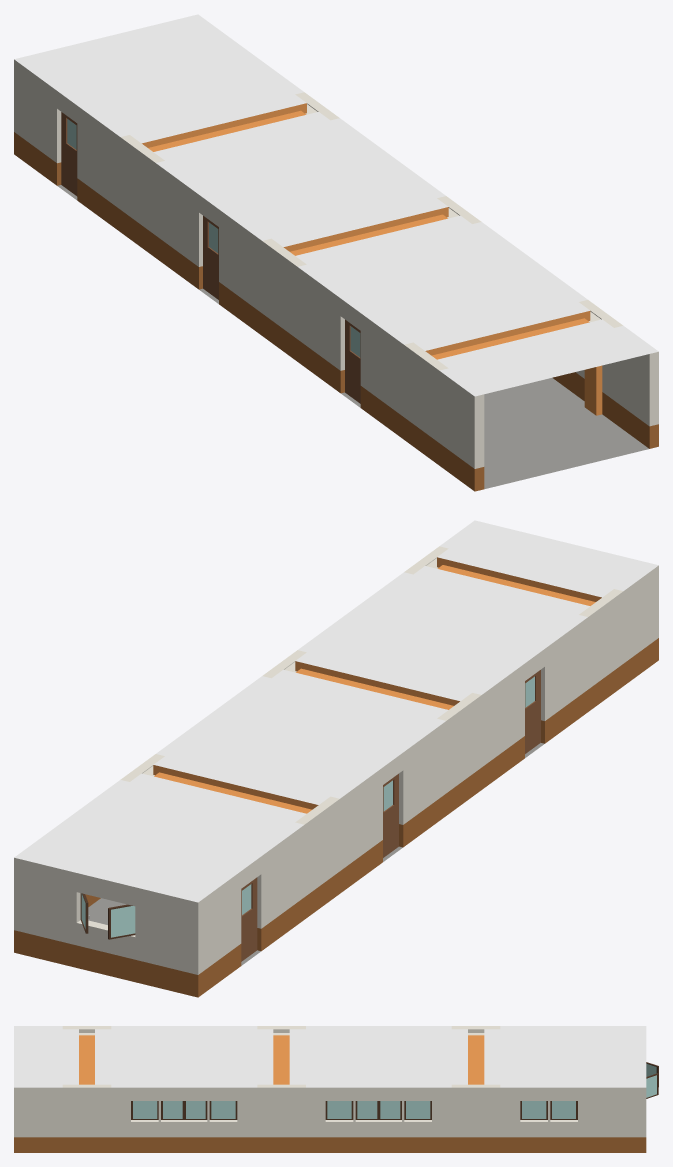
Rendered from Corredor.fbx.
3 views of the same model, one above another, from view 1: azimuth 30°, elevation 25°; view 2: azimuth 150°, elevation 25°; view 3: azimuth 270°, elevation 25° (orthographic). The views are drawn at different scales.
Visible parts, largest first — view 1: coner_right_lower, coner_right_lower.009, coner_right_column_lower, coner_right_higher.009, coner_right_higher.015, coner_right_higher.010, coner_right_higher.011, coner_right_higher.013, coner_left_higher_wall, coner_right_higher.014, coner_right_higher.016, coner_right_higher.012 (+63 smaller); view 2: coner_left_lower_wall, wall_coner_left, coner_left_higher_wall, coner_right_fower_wall, floor_wall, coner_right_higher_wall, ceiling_wall, coner_right_higher.012, coner_right_higher.011, coner_right_higher.013, coner_right_higher.009, coner_right_higher.010 (+61 smaller); view 3: coner_right_lower.002, coner_right_lower.005, coner_right_lower.003, coner_right_lower.004, coner_right_lower.001, coner_right_lower.006, coner_right_lower.007, coner_right_lower.008, coner_right_column_lower, coner_right_fower_wall, coner_right_column_lower.002, coner_right_lower (+64 smaller).
Boxes of the visible parts, x1,y1,x2,y2 form: coner_right_lower: (562,378,658,461); coner_right_lower.009: (439,421,535,491); coner_right_column_lower: (527,368,613,435); coner_right_higher.009: (439,355,535,406); coner_right_higher.015: (155,148,251,198); coner_right_higher.010: (368,304,464,354); coner_right_higher.011: (333,278,429,328); coner_right_higher.013: (226,200,322,250); coner_left_higher_wall: (14,44,110,94); coner_right_higher.014: (191,174,287,224); coner_right_higher.016: (85,96,181,146); coner_right_higher.012: (297,252,393,302); coner_left_lower_wall: (136,927,233,997); wall_coner_left: (136,887,233,952); coner_left_higher_wall: (136,861,233,912); coner_right_fower_wall: (14,907,75,967); floor_wall: (75,920,136,982); coner_right_higher_wall: (14,831,110,882); ceiling_wall: (75,847,171,897); coner_right_higher.012: (421,654,517,704); coner_right_higher.011: (456,628,552,678); coner_right_higher.013: (350,706,446,756); coner_right_higher.009: (562,550,658,600); coner_right_higher.010: (491,602,587,652); coner_right_lower.002: (160,1120,208,1152); coner_right_lower.005: (354,1120,402,1152); coner_right_lower.003: (208,1120,257,1152); coner_right_lower.004: (306,1120,354,1152); coner_right_lower.001: (111,1120,159,1152); coner_right_lower.006: (403,1120,451,1152); coner_right_lower.007: (500,1120,548,1152); coner_right_lower.008: (549,1120,597,1152); coner_right_column_lower: (62,1122,111,1152); coner_right_fower_wall: (597,1122,646,1152); coner_right_column_lower.002: (451,1122,500,1152); coner_right_lower: (14,1122,62,1152).
Size of the model in its own units: 3.12 by 1.54 by 13.79.
